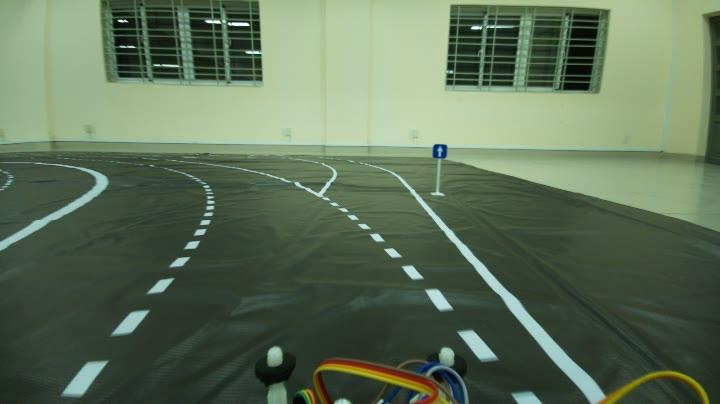onewayroad: (428, 138, 452, 162)
